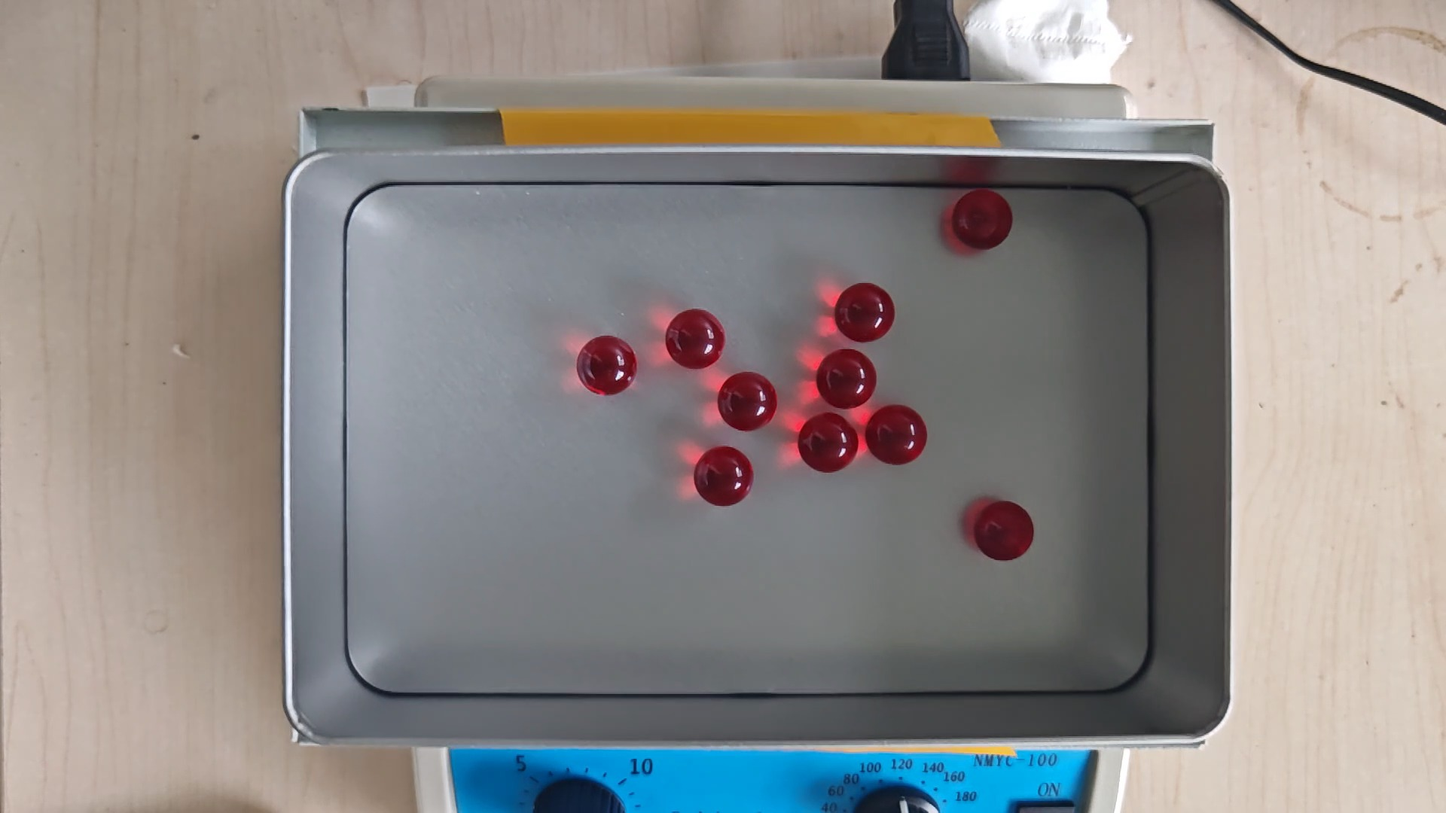ball: (866, 404, 927, 466), (577, 335, 638, 397), (974, 500, 1035, 562), (694, 446, 755, 507), (835, 281, 895, 343), (798, 412, 858, 473), (953, 189, 1013, 250), (817, 349, 876, 411), (665, 308, 724, 369), (718, 371, 776, 432)
container: (345, 183, 1150, 695)
